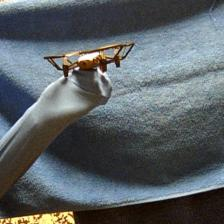drone: (46, 40, 134, 76)
